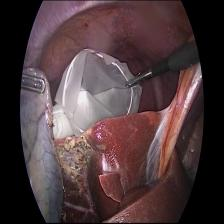Grasper: (126, 67, 153, 92), (22, 70, 47, 96)
Specimen Bag: (50, 44, 146, 136)
